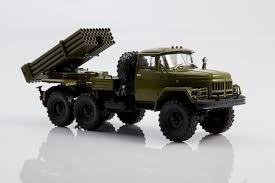MIL_SAM_TEL: (20, 24, 243, 143)
